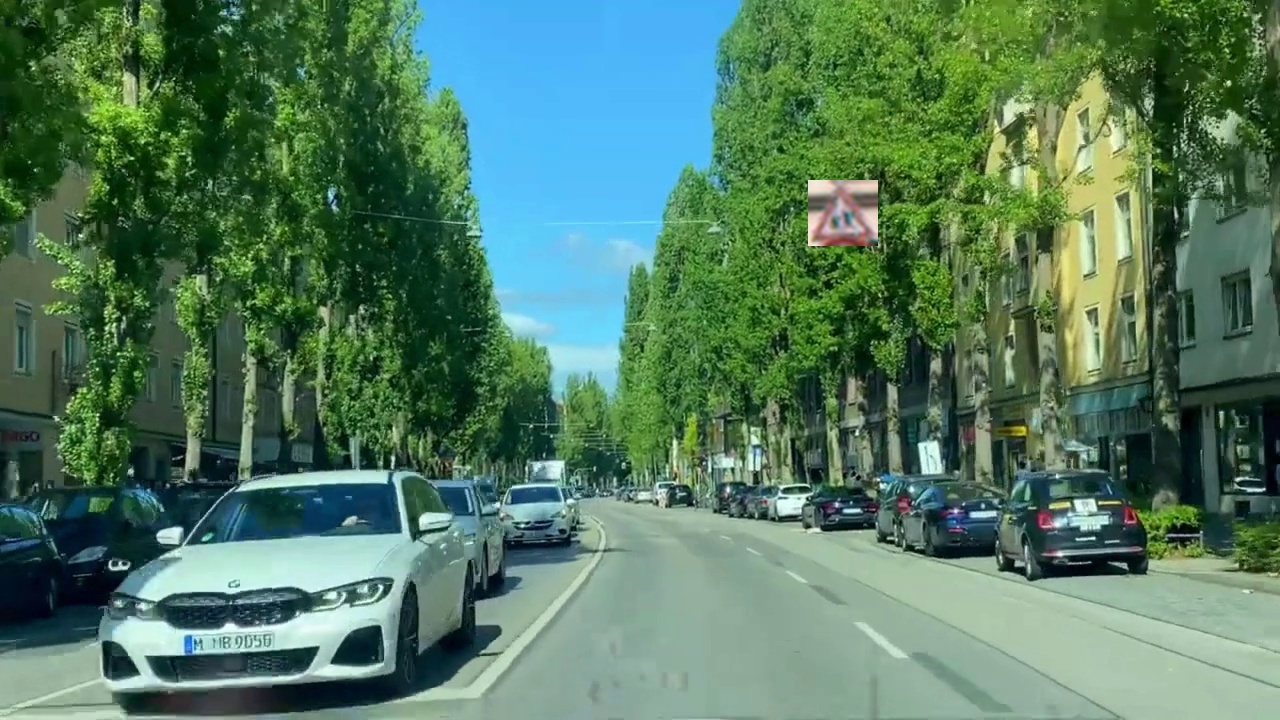Children: (808, 180, 878, 246)
